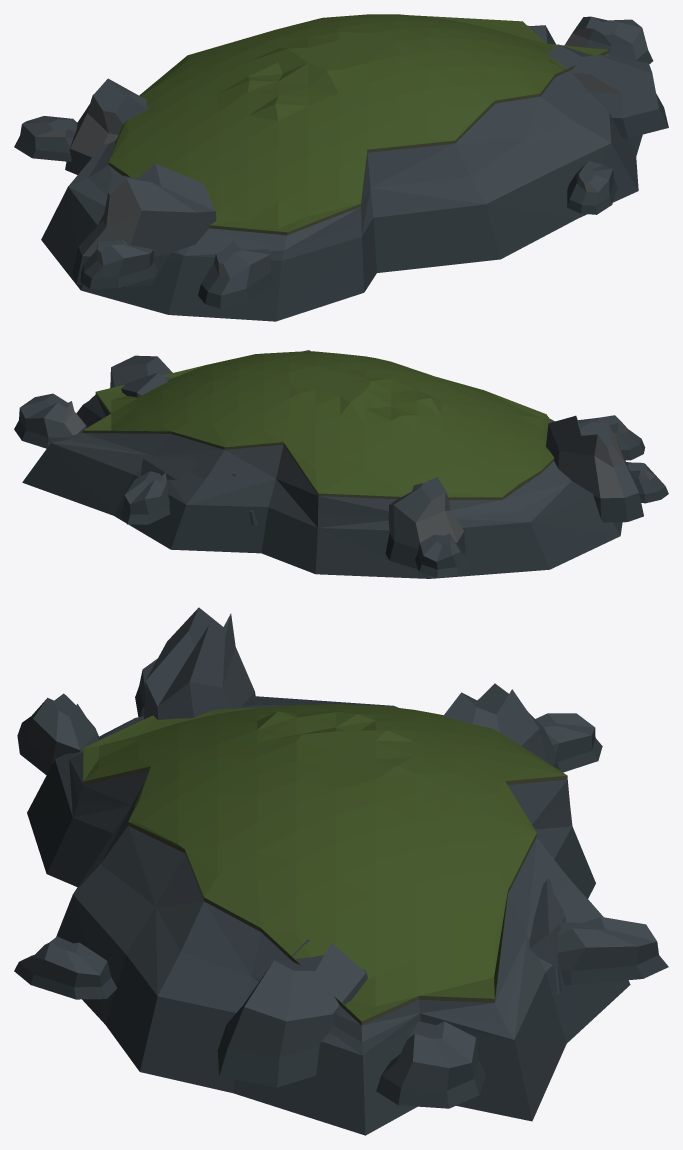
The model's file is island_b.glb.
3 views of the same model, one above another, from view 1: azimuth 30°, elevation 25°; view 2: azimuth 150°, elevation 25°; view 3: azimuth 270°, elevation 25° (orthographic). The views are drawn at different scales.
Visible parts, largest first — view 1: island_b_Coast blue grey bedrock, island_b_Coast short olive grass; view 2: island_b_Coast blue grey bedrock, island_b_Coast short olive grass; view 3: island_b_Coast blue grey bedrock, island_b_Coast short olive grass.
Part boxes in pixels (bbox=[...]): island_b_Coast blue grey bedrock: bbox=[14, 16, 668, 321]; island_b_Coast short olive grass: bbox=[108, 14, 609, 235]; island_b_Coast blue grey bedrock: bbox=[14, 350, 668, 578]; island_b_Coast short olive grass: bbox=[83, 351, 554, 499]; island_b_Coast blue grey bedrock: bbox=[14, 607, 668, 1135]; island_b_Coast short olive grass: bbox=[83, 704, 567, 1025].
Bounding box in the file's own units: 148 × 29.06 × 96.91.
